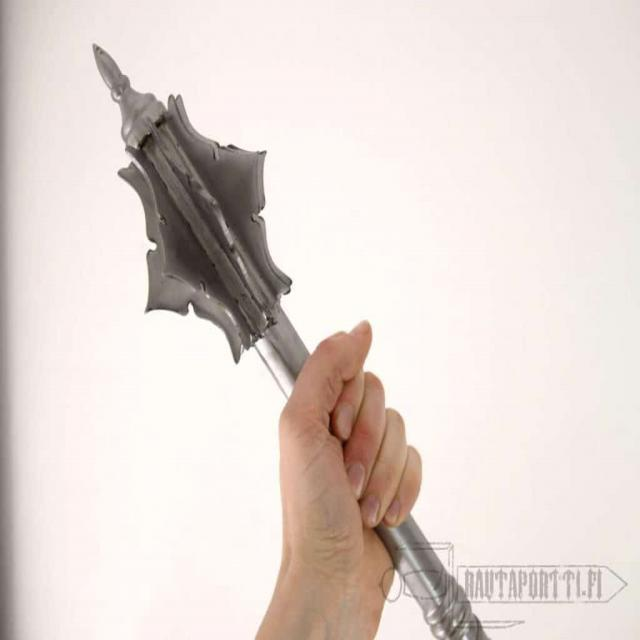mace: (93, 43, 492, 640)
